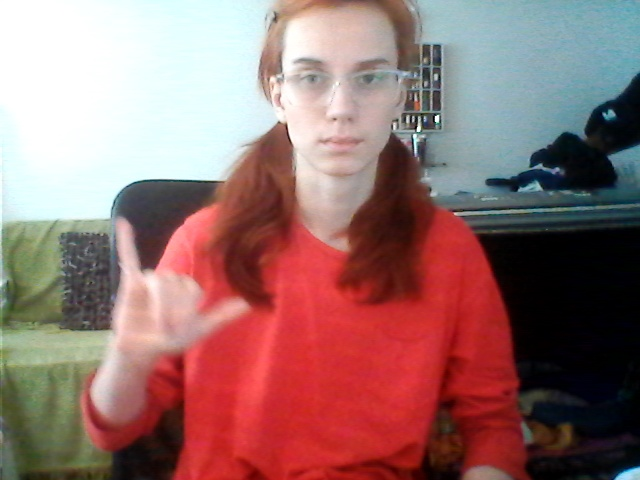kto: (92, 210, 253, 358)
